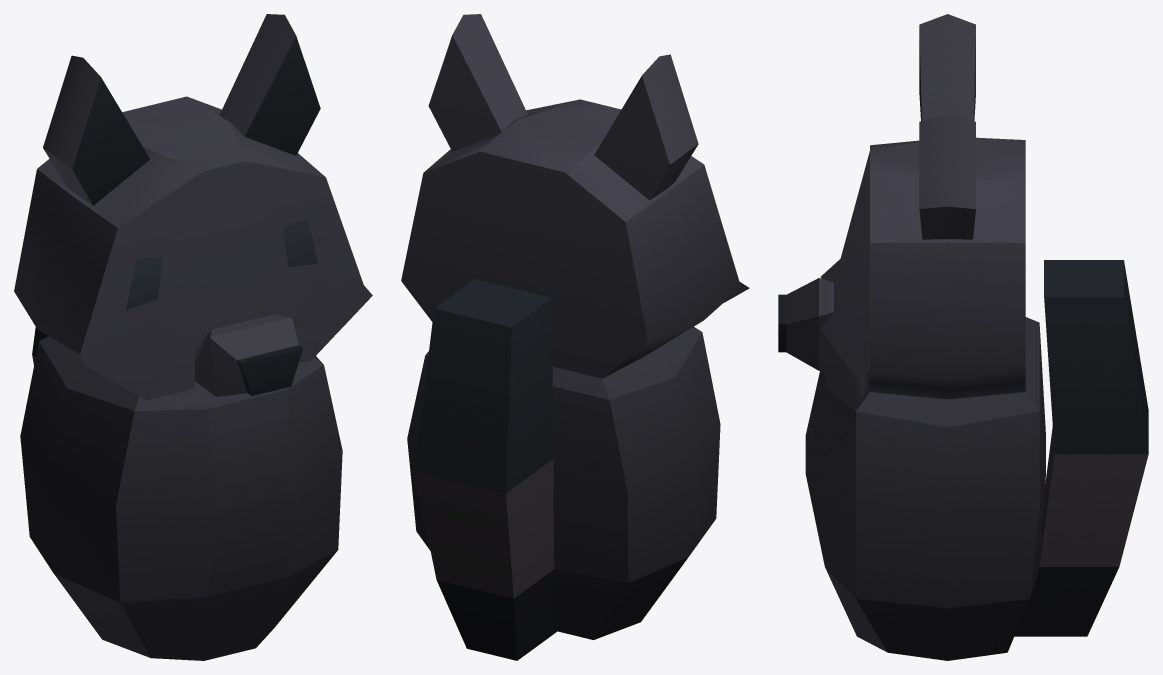
Rendered from Guaxizim.fbx.
The picture shows the model from 3 angles, left to right: view 1: azimuth 30°, elevation 25°; view 2: azimuth 150°, elevation 25°; view 3: azimuth 270°, elevation 25°; orthographic projection. The views are drawn at different scales.
Parts seen in each view (by area): view 1: pCube25; view 2: pCube25; view 3: pCube25.
Boxes of the visible parts, x1,y1,x2,y2 form: pCube25: (14,14,372,660); pCube25: (401,14,749,660); pCube25: (778,14,1148,660).
Bounding box in the file's own units: 2.06 × 4 × 2.38.
